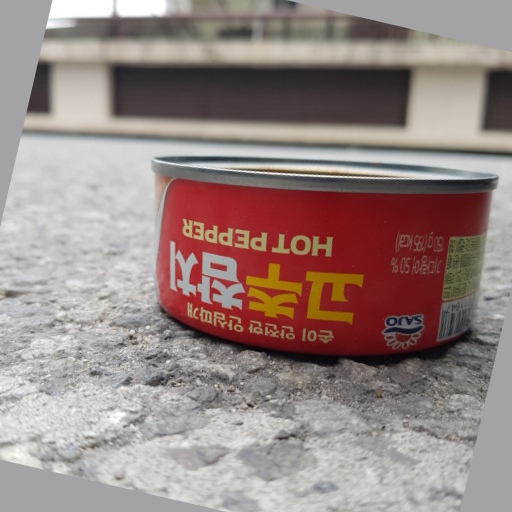Metal_1: (148, 150, 500, 362)
